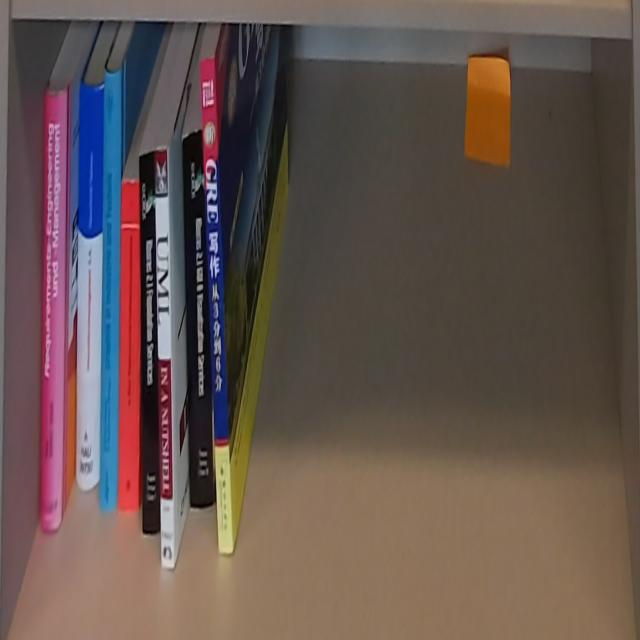Book Spine: (201, 60, 233, 556), (75, 78, 105, 495), (180, 134, 213, 509), (99, 63, 123, 515), (43, 88, 66, 530), (157, 150, 176, 572), (141, 152, 159, 537), (120, 178, 140, 512)
